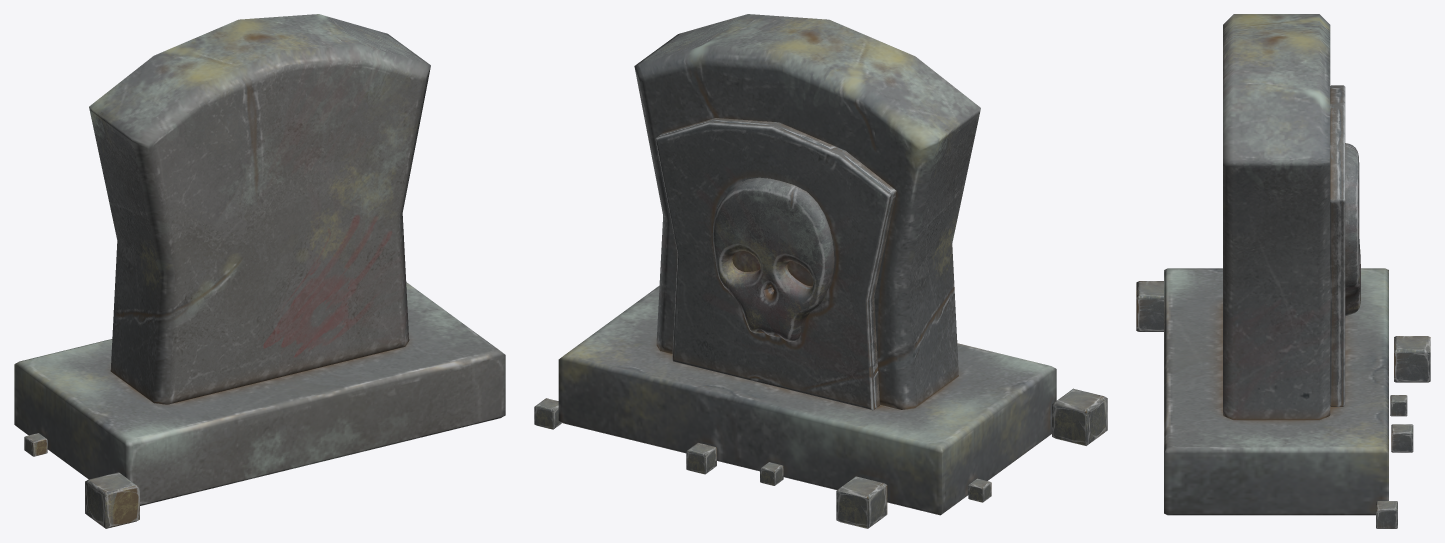
File: background_tomb2.glb
3 views of the same model, side by side, from view 1: azimuth 30°, elevation 25°; view 2: azimuth 150°, elevation 25°; view 3: azimuth 270°, elevation 25° (orthographic).
Visible parts, largest first — view 1: Object_2; view 2: Object_2; view 3: Object_2.
Part boxes in pixels (x1,y1,x2,y2): Object_2: (14, 14, 505, 528); Object_2: (534, 14, 1107, 528); Object_2: (1136, 14, 1430, 528).
Size of the model in its own units: 0.68 by 0.5954 by 0.4013.
Materials: 1 (1 with a texture image).
